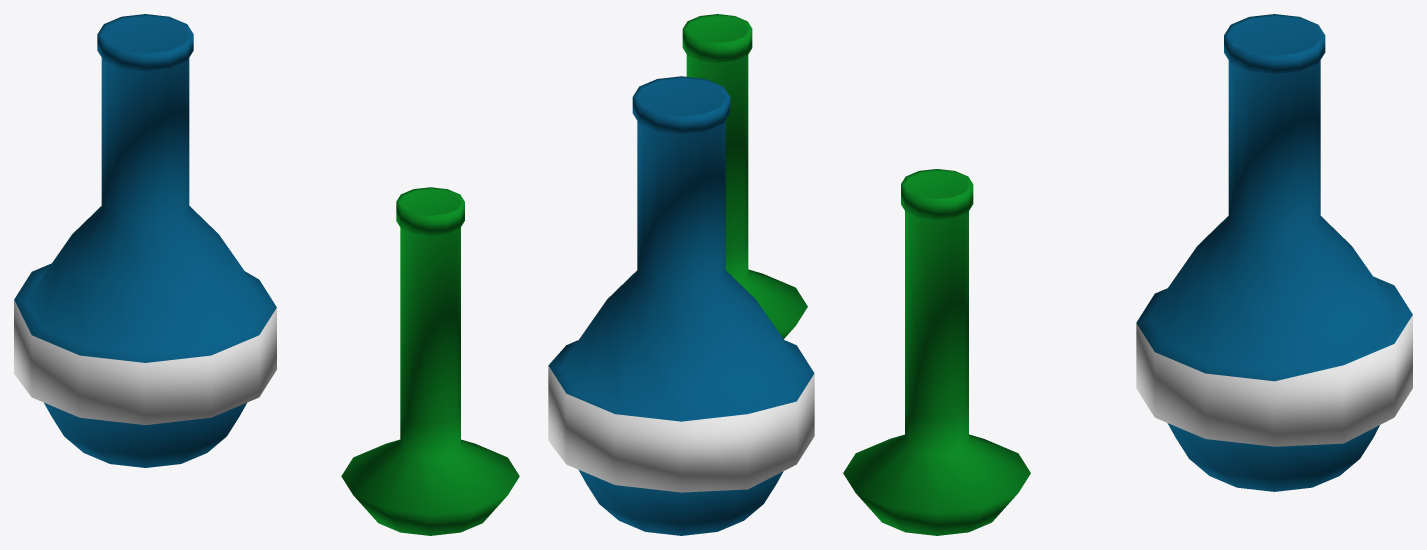
File: Flasks.fbx
The picture shows the model from 3 angles, left to right: view 1: azimuth 30°, elevation 25°; view 2: azimuth 150°, elevation 25°; view 3: azimuth 270°, elevation 25°; orthographic projection. The views are drawn at different scales.
Parts seen in each view (by area): view 1: Flask1, Flask2; view 2: Flask1, Flask2; view 3: Flask1, Flask2.
Boxes of the visible parts, box(x1,y1,x2,y2) form: Flask1: box(14, 14, 276, 467); Flask2: box(341, 187, 519, 535); Flask1: box(548, 76, 814, 535); Flask2: box(682, 14, 807, 338); Flask1: box(1136, 14, 1412, 491); Flask2: box(843, 169, 1030, 535).
Size of the model in its own units: 47.13 by 57.54 by 69.96.
